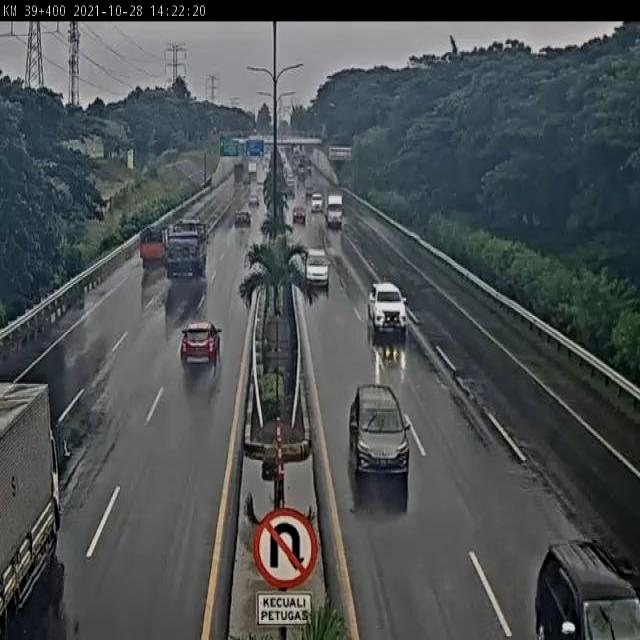Car: (535, 539, 640, 639), (346, 384, 414, 486), (364, 282, 410, 336), (178, 323, 226, 366), (302, 248, 332, 295), (291, 203, 308, 224), (233, 213, 251, 228), (248, 193, 258, 206)
Truck: (0, 380, 64, 640), (162, 219, 210, 280), (140, 224, 175, 267), (320, 186, 343, 228)
